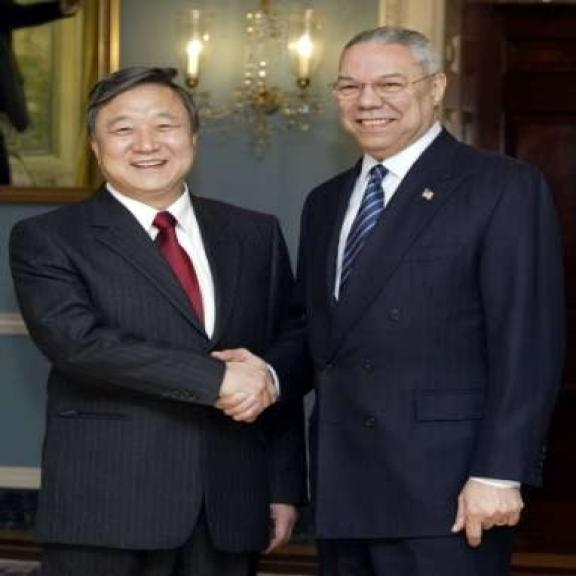face: (336, 35, 452, 153), (80, 83, 201, 196)
